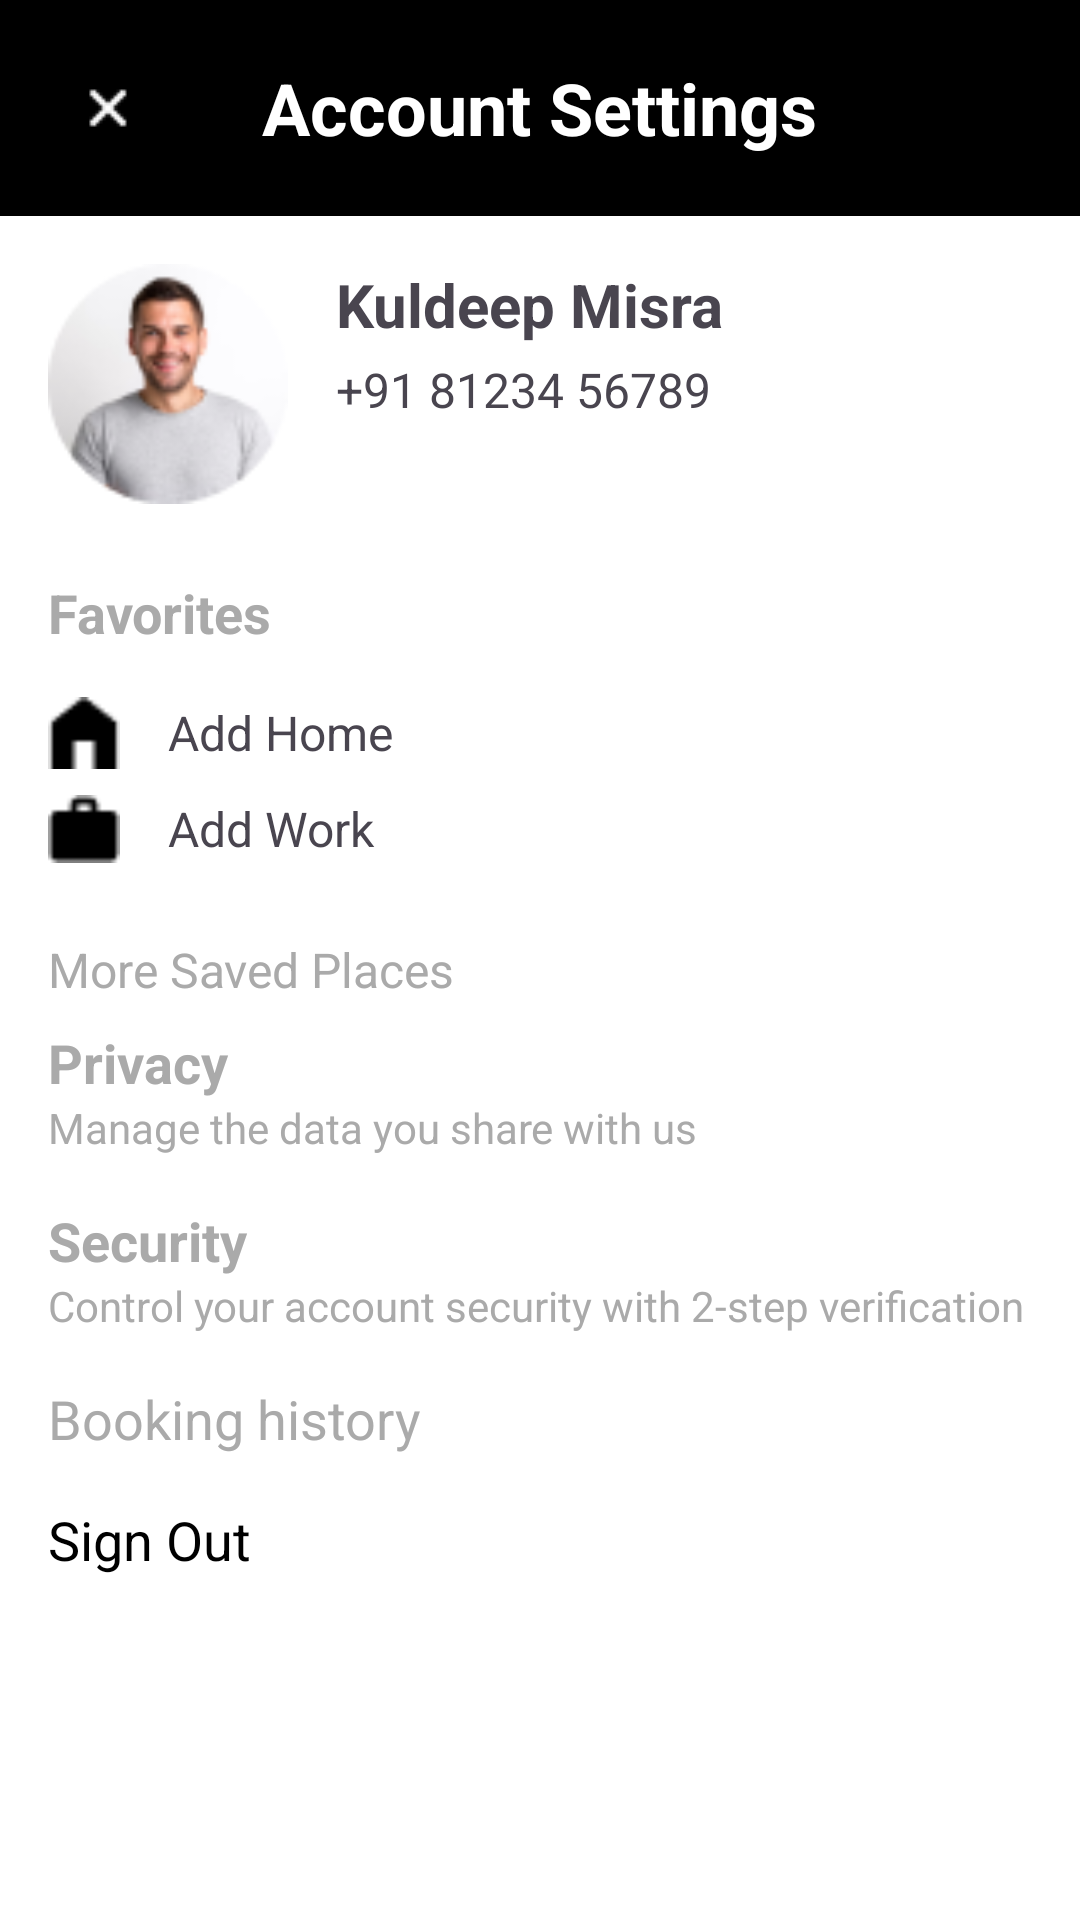

Icons on this 1080x1920 Android screen, each with its box as bbox=[x1, y1, x2, y2]:
close: bbox=[89, 89, 127, 127]
profile picture: bbox=[48, 276, 270, 504]
